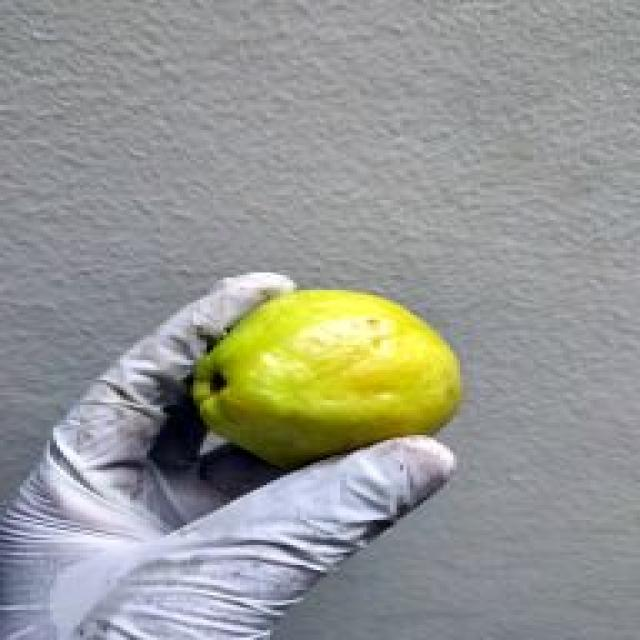Good_Guava: (190, 290, 463, 472)
